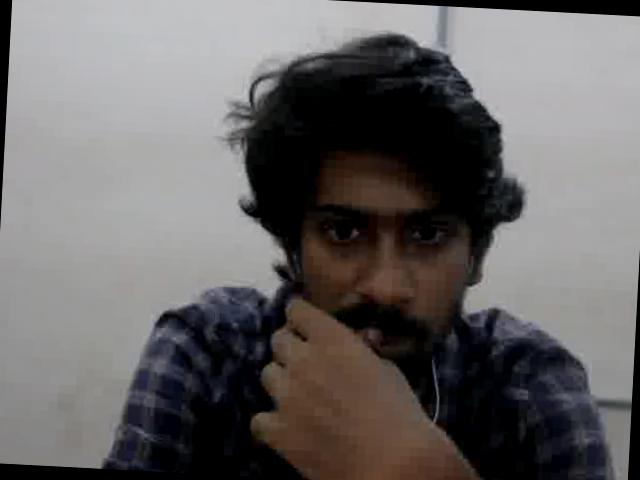bingung: (292, 158, 462, 364)
